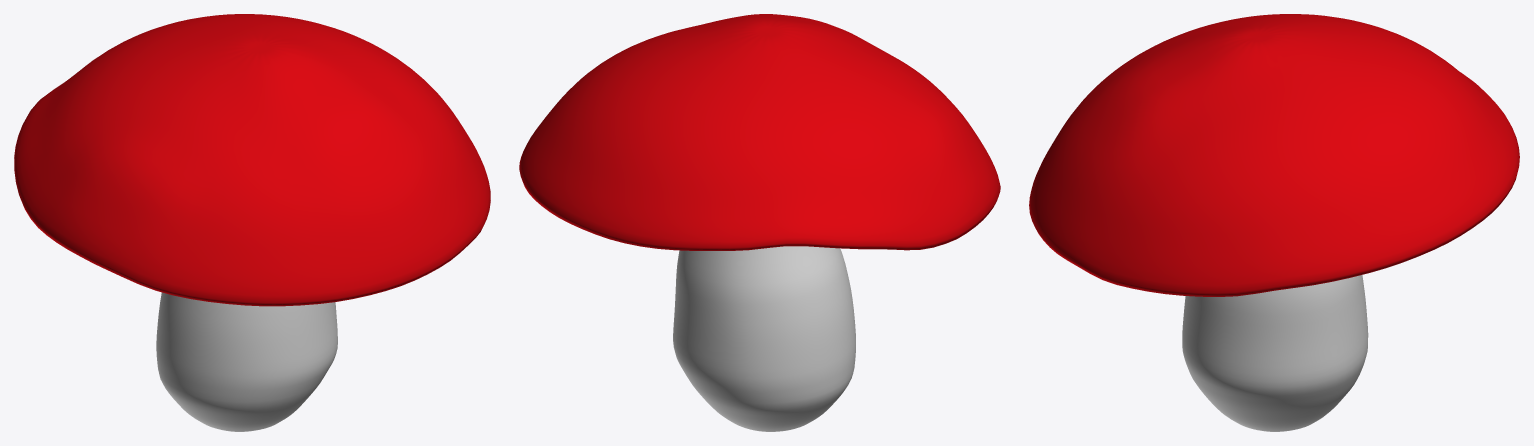
The model's file is Mushroom2.fbx.
The picture shows the model from 3 angles, left to right: view 1: azimuth 30°, elevation 25°; view 2: azimuth 150°, elevation 25°; view 3: azimuth 270°, elevation 25°; orthographic projection. The views are drawn at different scales.
Parts seen in each view (by area): view 1: Head, Base; view 2: Head, Base; view 3: Head, Base.
Boxes of the visible parts, x1,y1,x2,y2 form: Head: (14,14,490,306); Base: (156,292,337,431); Head: (519,14,1000,250); Base: (673,246,855,431); Head: (1029,14,1519,296); Base: (1182,275,1368,431).
Size of the model in its own units: 3.48 by 2.98 by 3.46.
